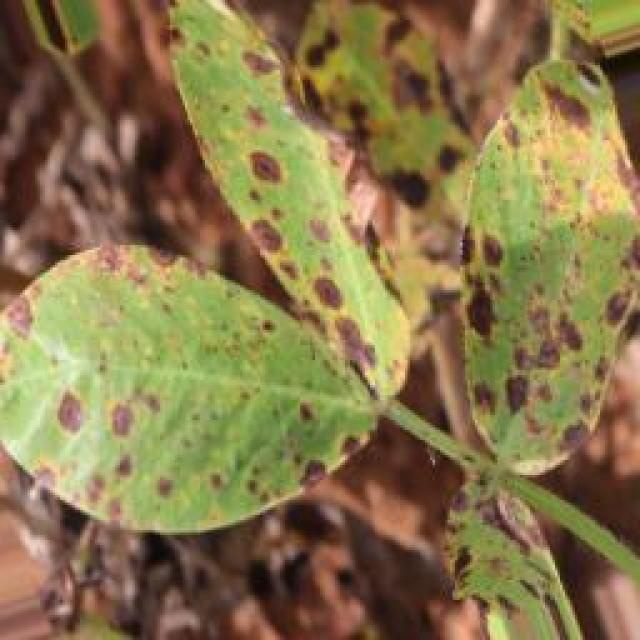Yellowish: (49, 46, 629, 592)
